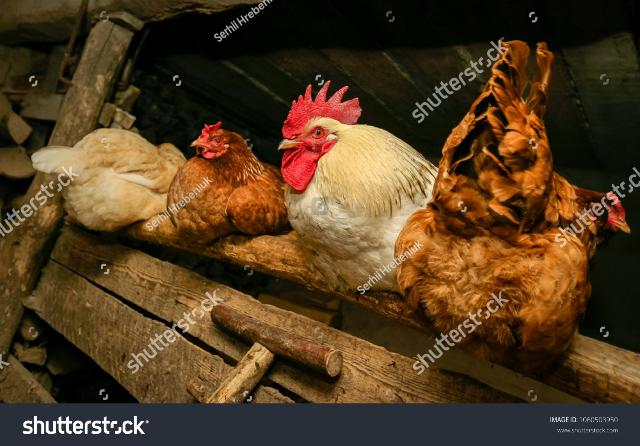Chicken: (394, 39, 629, 355), (277, 80, 442, 291), (31, 126, 191, 233), (166, 121, 291, 245)
